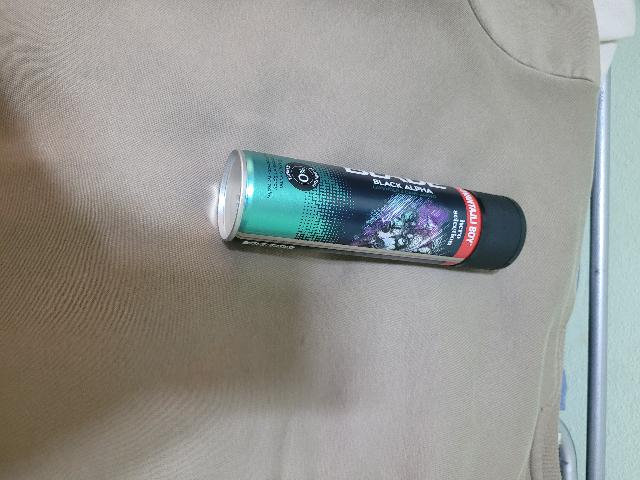Metal: (210, 144, 478, 278)
Plastik: (463, 174, 542, 283)
